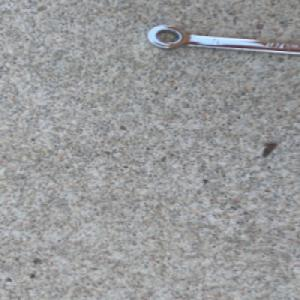Wrench: (146, 23, 300, 56)
